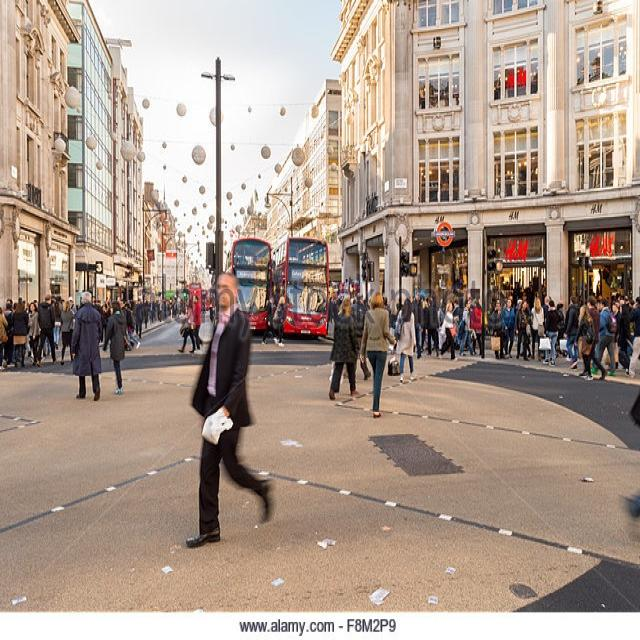body: (182, 268, 277, 552), (358, 290, 398, 420), (68, 288, 103, 402), (327, 294, 362, 401), (100, 298, 128, 396), (581, 293, 609, 380), (589, 296, 618, 377), (393, 296, 418, 386), (328, 294, 349, 390), (4, 297, 30, 369), (34, 290, 58, 366), (499, 271, 547, 307), (328, 276, 369, 318), (575, 301, 595, 380), (561, 293, 580, 369), (541, 297, 561, 366), (437, 297, 458, 362), (629, 391, 640, 514), (613, 303, 631, 377), (499, 294, 517, 361), (625, 293, 639, 379), (456, 297, 476, 357), (422, 296, 441, 358), (259, 292, 280, 346), (119, 294, 139, 350), (513, 297, 530, 362), (176, 296, 195, 354), (148, 296, 186, 325), (528, 293, 544, 361), (410, 290, 425, 360), (489, 297, 505, 361), (60, 299, 75, 366), (91, 296, 111, 346), (351, 290, 367, 352), (27, 300, 41, 366), (271, 293, 287, 347), (470, 297, 484, 357), (610, 300, 622, 370), (384, 296, 402, 338), (191, 295, 203, 351), (0, 304, 9, 372), (52, 300, 63, 351), (452, 295, 475, 315), (615, 289, 636, 310), (133, 296, 143, 338), (9, 293, 31, 312), (233, 247, 256, 264), (434, 290, 445, 322), (555, 302, 566, 331), (542, 294, 552, 318), (69, 294, 82, 311), (419, 288, 430, 308), (142, 299, 149, 329), (3, 300, 14, 319), (52, 288, 66, 302), (25, 332, 32, 358), (594, 292, 605, 308), (444, 79, 451, 102), (487, 294, 495, 314), (518, 166, 526, 186), (496, 73, 502, 98), (429, 177, 436, 196), (34, 294, 40, 310)
